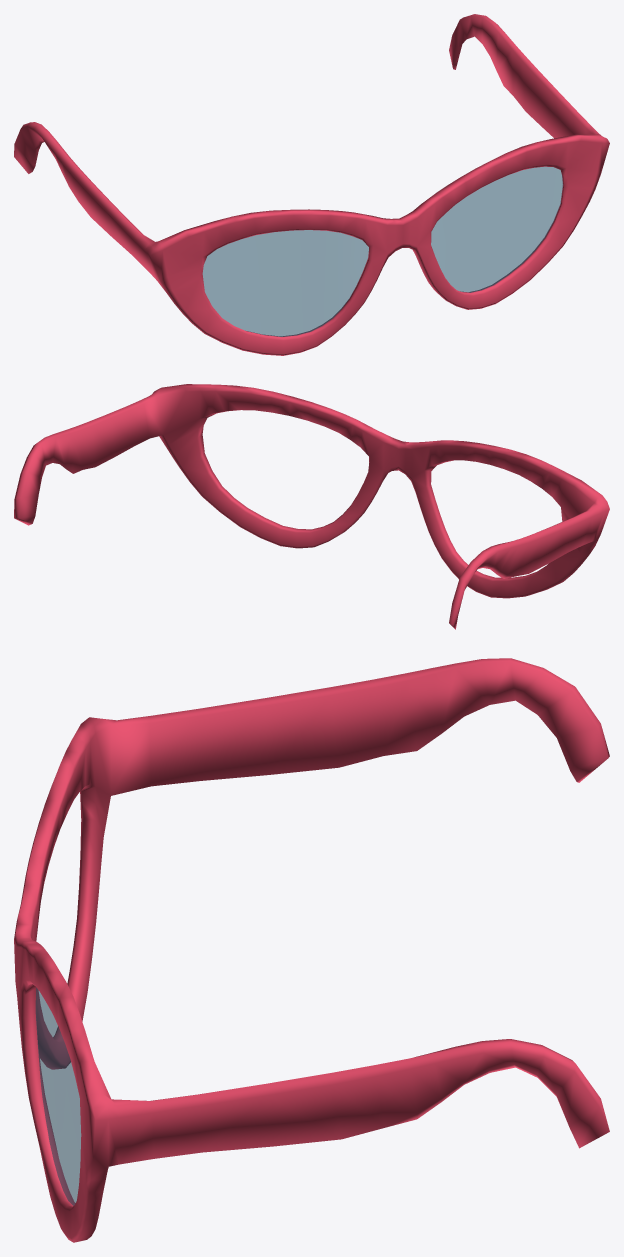
File: accessories_cateye.glb
3 renders of one model, top to bottom at view 1: azimuth 30°, elevation 25°; view 2: azimuth 150°, elevation 25°; view 3: azimuth 270°, elevation 25°, orthographic. The views are drawn at different scales.
Parts seen in each view (by area): view 1: accessories_cateye; view 2: accessories_cateye; view 3: accessories_cateye.
Part boxes in pixels (left/top/right/bottom): accessories_cateye: left=14, top=14, right=609, bottom=355; accessories_cateye: left=14, top=384, right=609, bottom=629; accessories_cateye: left=14, top=658, right=609, bottom=1242.
Size of the model in its own units: 0.3691 by 0.1273 by 0.2363.
Materials: 2 (1 with a texture image).
